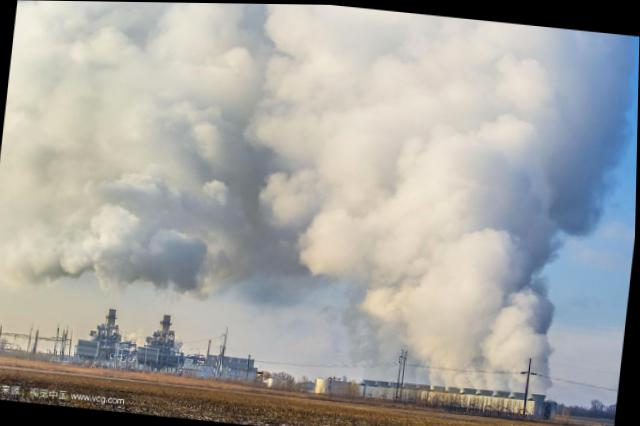smoke: (3, 0, 617, 209), (379, 192, 542, 349), (0, 156, 207, 276), (266, 182, 390, 270)
